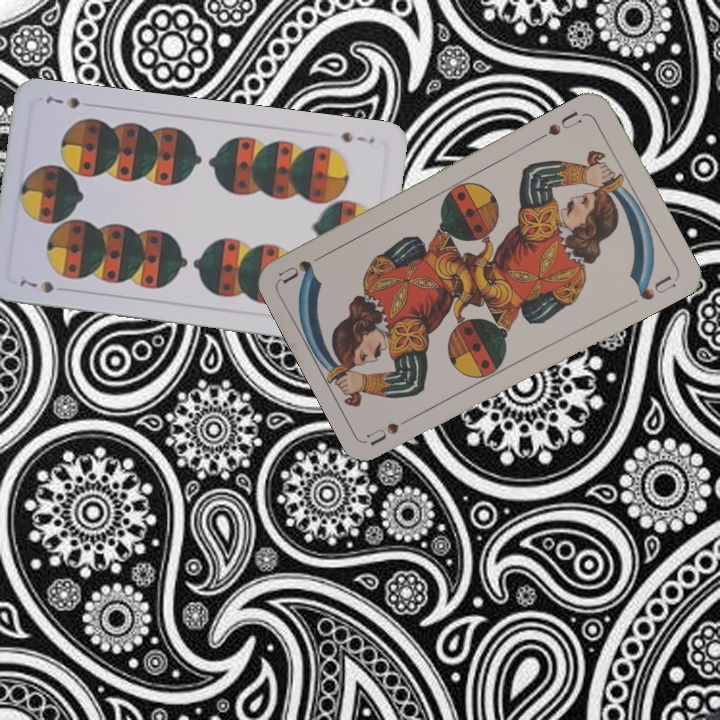S7: (15, 275, 56, 296), (337, 128, 377, 146)
SU: (364, 410, 421, 448), (534, 106, 585, 143)
